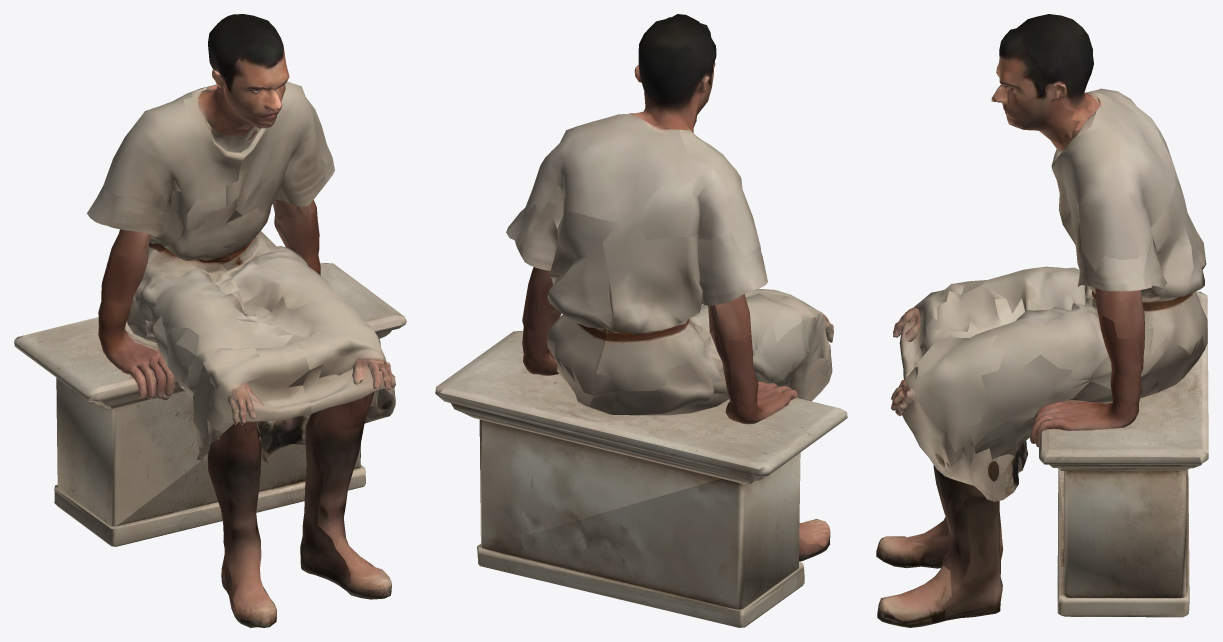
Rendered from plebs_m1.glb.
3 renders of one model, left to right at view 1: azimuth 30°, elevation 25°; view 2: azimuth 150°, elevation 25°; view 3: azimuth 270°, elevation 25°, orthographic. The views are drawn at different scales.
Size of the model in its own units: 0.6172 by 0.998 by 0.5254.
Materials: 1 (1 with a texture image).
